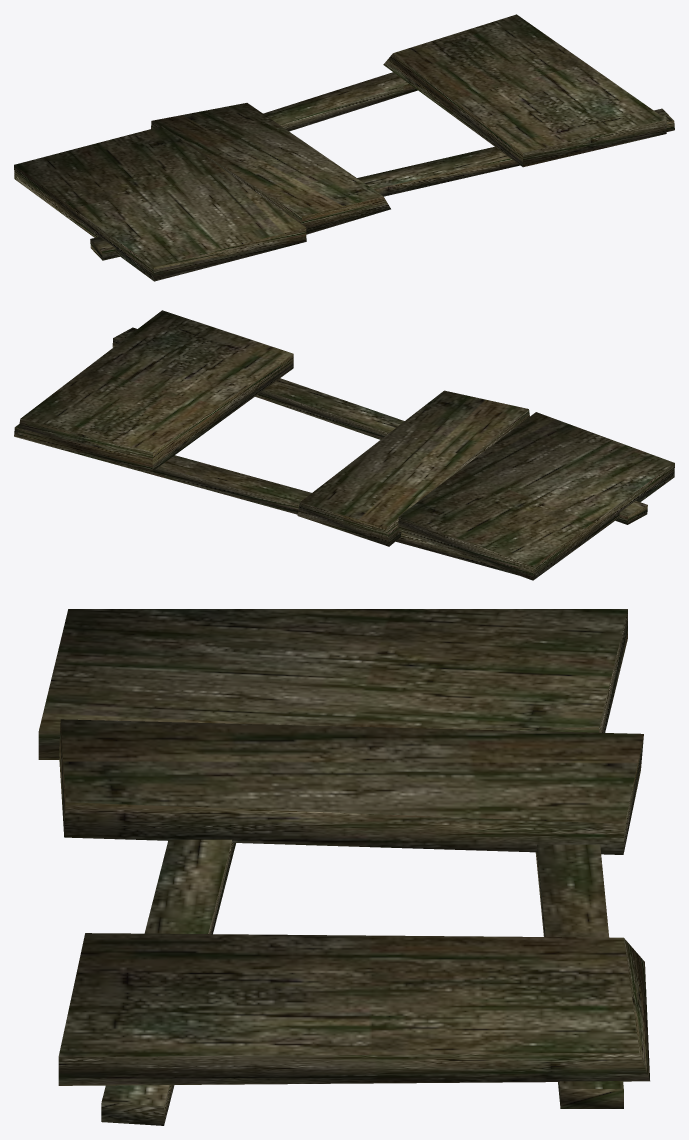
File: OW_LOB_WOODPLANKS_V5.glb
3 views of the same model, one above another, from view 1: azimuth 30°, elevation 25°; view 2: azimuth 150°, elevation 25°; view 3: azimuth 270°, elevation 25° (orthographic). The views are drawn at different scales.
Parts seen in each view (by area): view 1: Mesh; view 2: Mesh; view 3: Mesh.
Part boxes in pixels (left/top/right/bottom): Mesh: left=14, top=14, right=674, bottom=281; Mesh: left=14, top=310, right=674, bottom=580; Mesh: left=38, top=609, right=649, bottom=1125.
Bounding box in the file's own units: 5.97 × 0.5161 × 2.89.
1 material, 1 textured.
